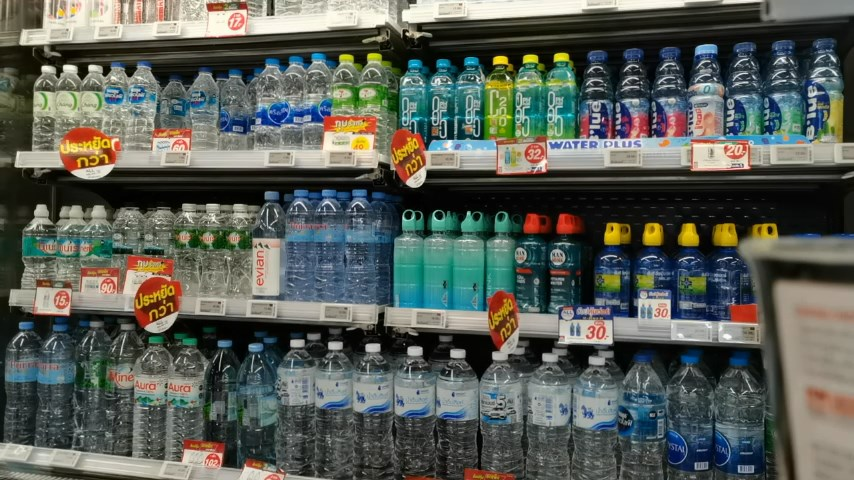1-1: (78, 317, 137, 450)
